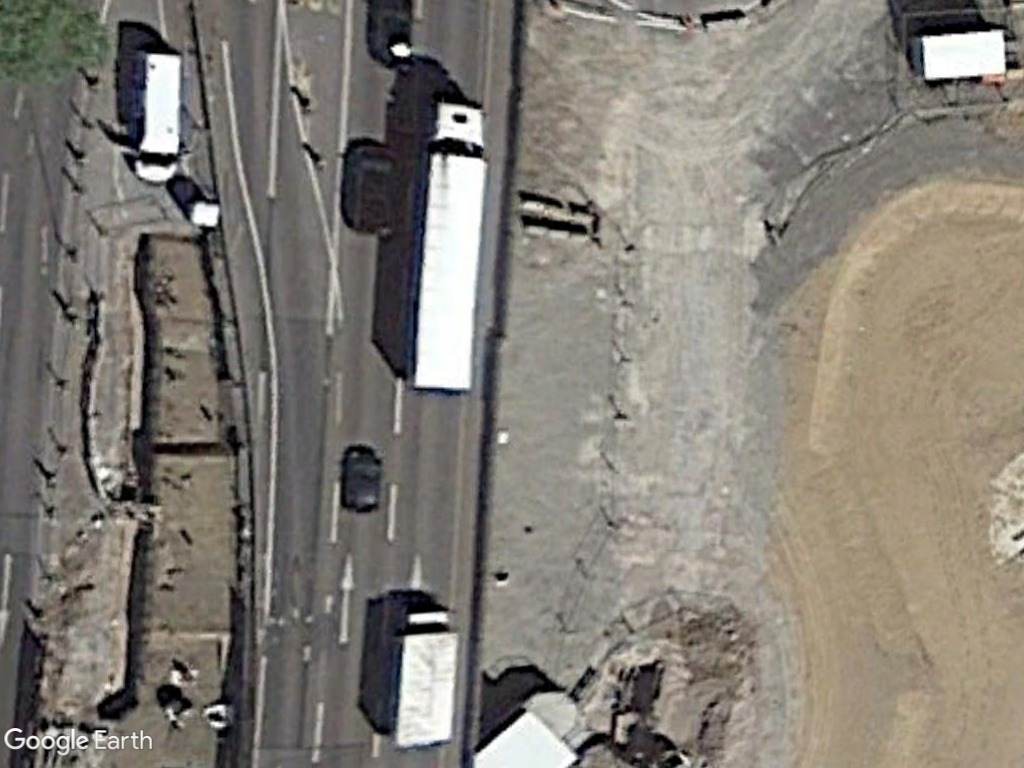longvehicle: (392, 95, 494, 405)
truck: (380, 605, 460, 758)
van: (131, 45, 186, 186)
